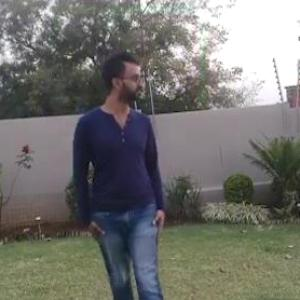follow: (62, 24, 186, 299)
